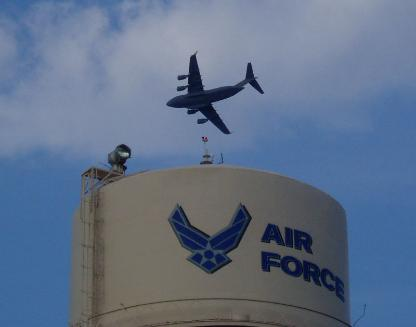C2: (166, 50, 264, 134)
